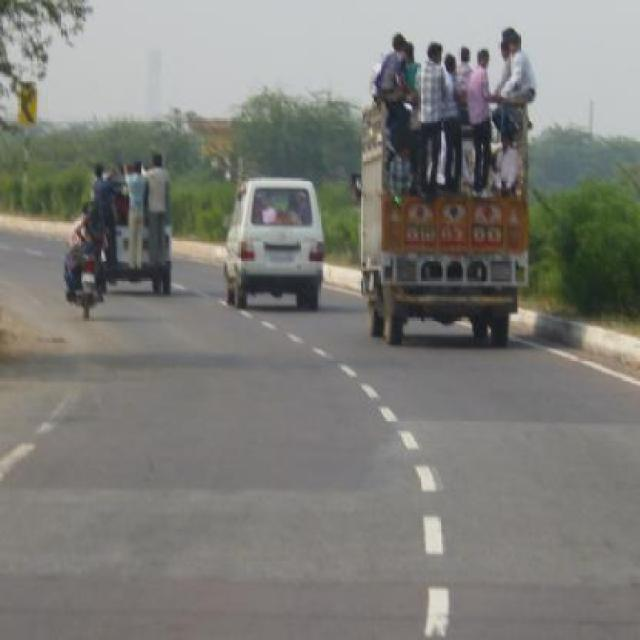Person: (374, 24, 540, 199), (92, 162, 125, 284), (64, 202, 108, 289), (145, 152, 167, 272), (124, 158, 144, 273), (72, 200, 100, 254)
